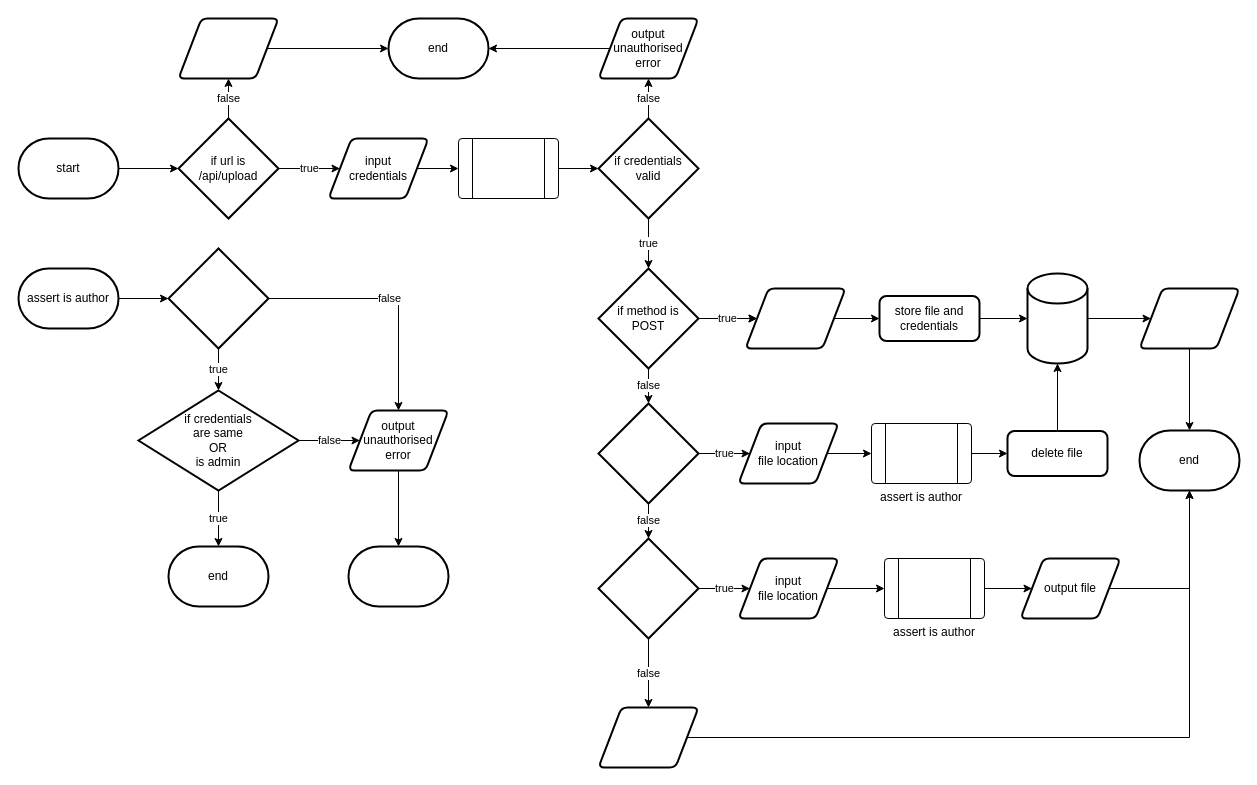
This 1257x785 diagram has some shape labels left out. The shapes that lost their labels are listed below. From the top down, each one's centre as x and y in pixels, then its label:
At point 228,48: "output 404 error".
At point 508,168: "validate credentials".
At point 218,298: "if file exists".
At point 795,318: "input file".
At point 1057,318: "file store".
At point 1189,318: "output success".
At point 648,453: "if method is DELETE".
At point 398,576: "short-circuit end".
At point 648,588: "if method is GET".
At point 648,737: "output 405 error".
